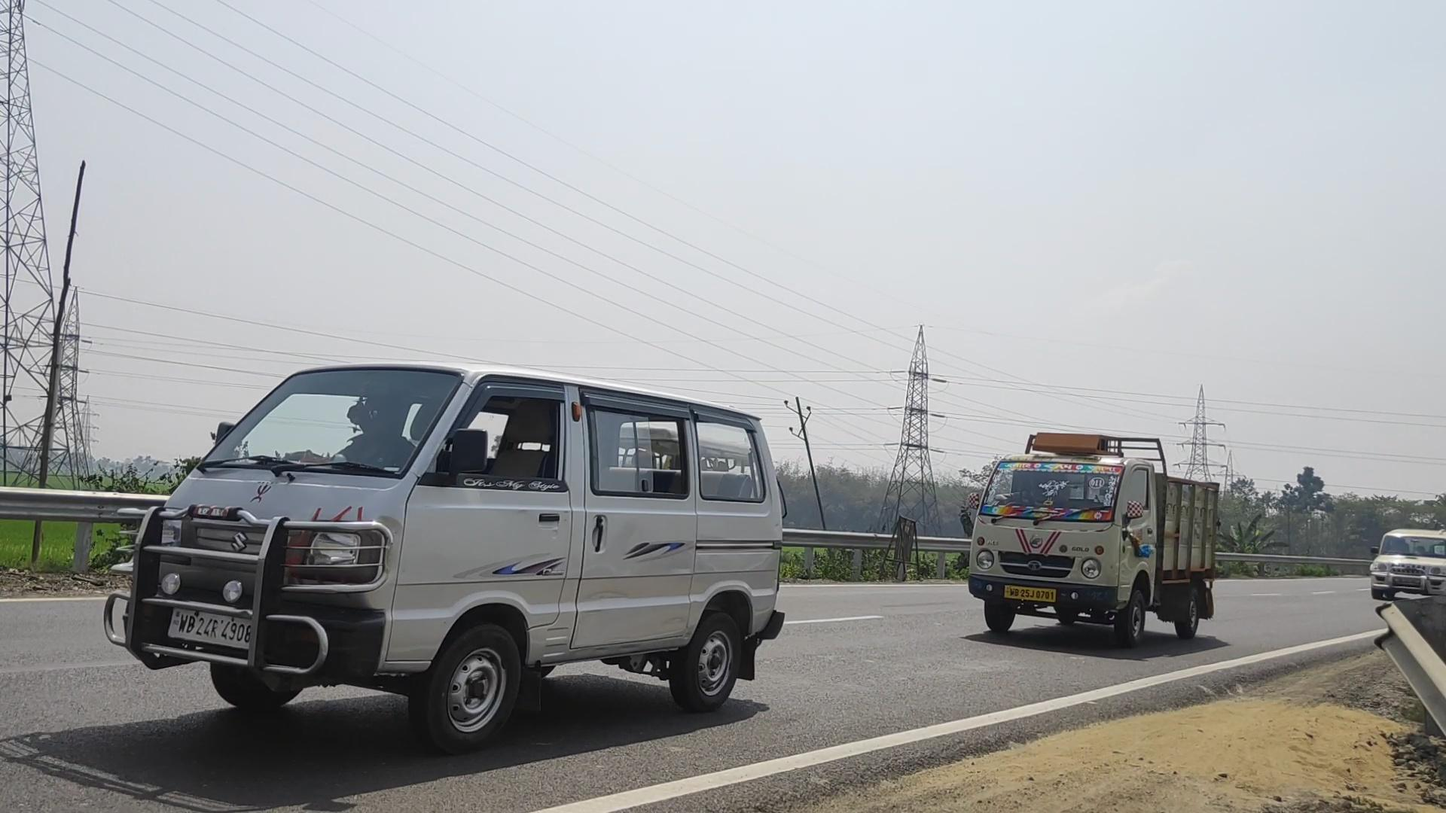car: (1369, 528, 1446, 601)
van: (103, 361, 786, 755), (967, 432, 1221, 647)
